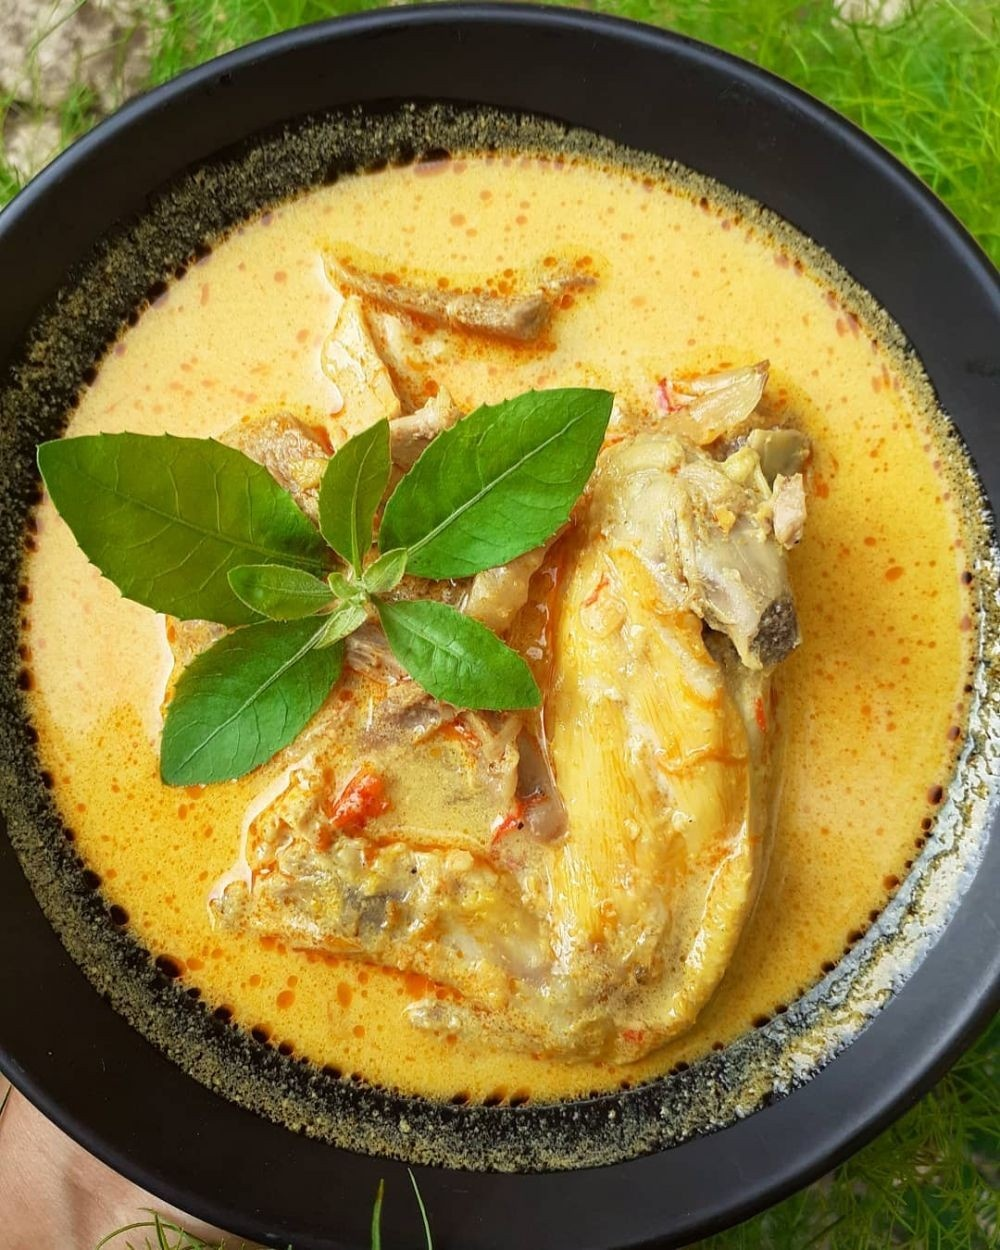gulai_ayam: (6, 137, 969, 1182)
